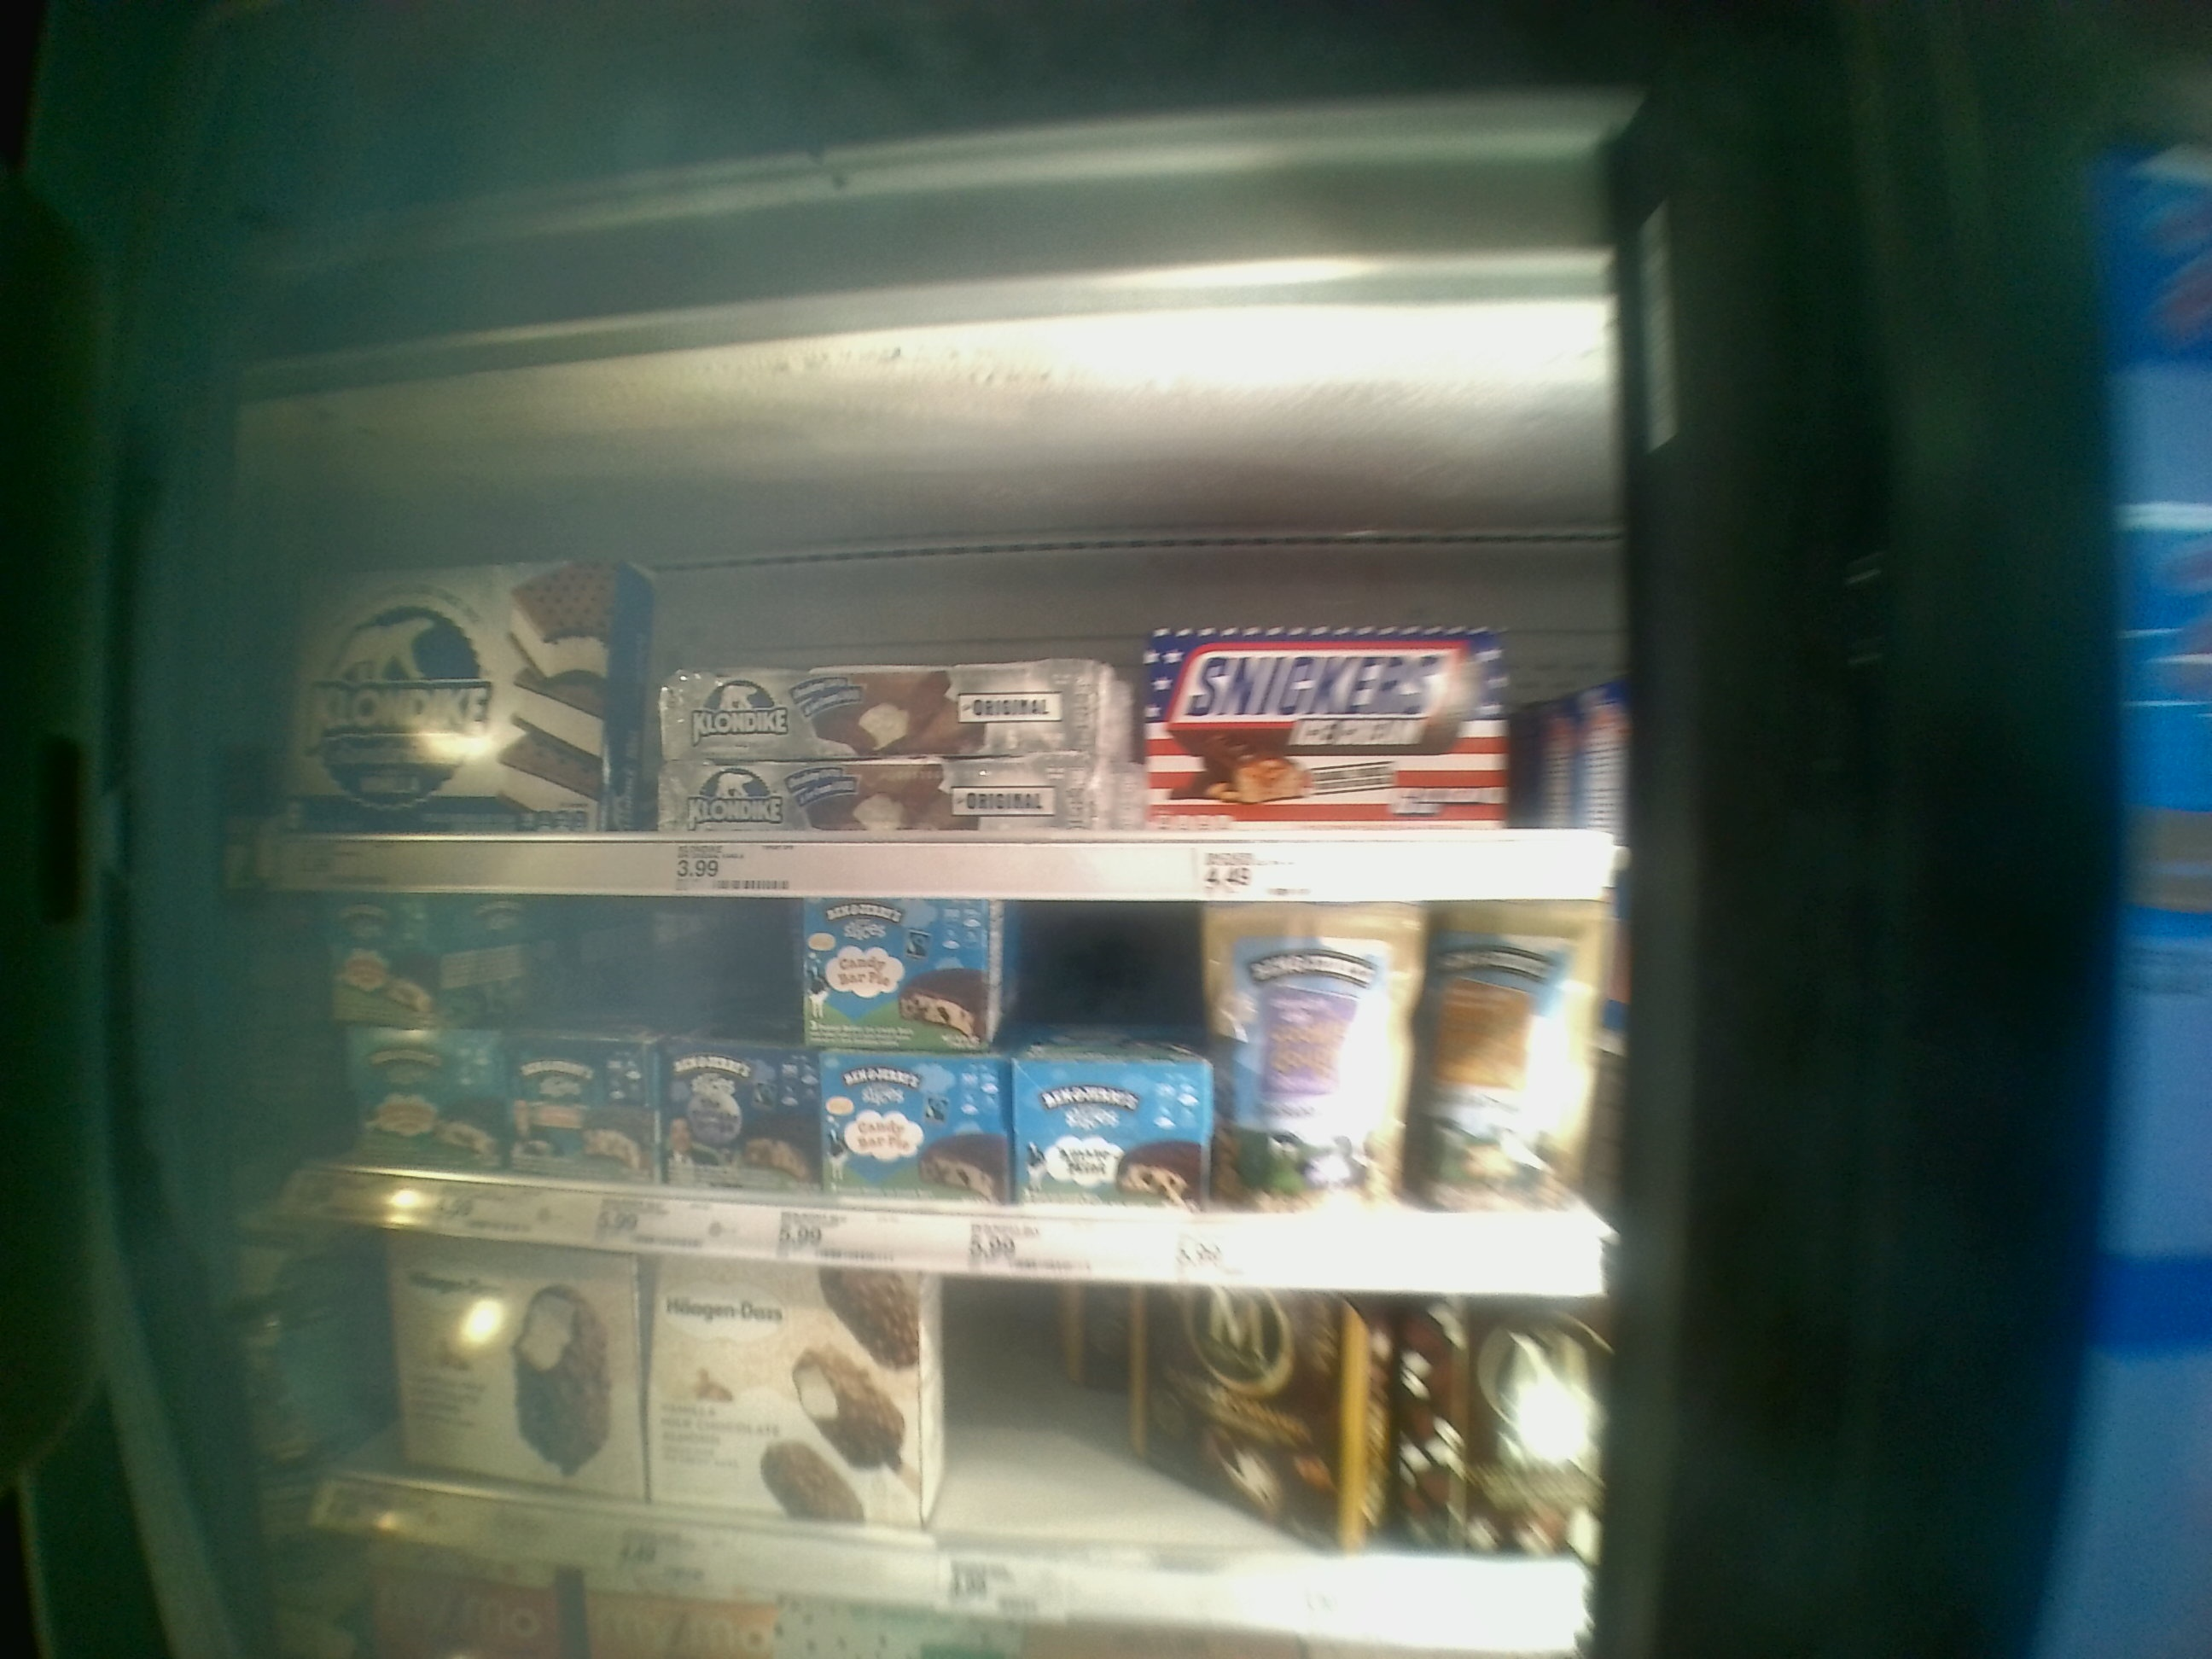shelf: (249, 894, 1622, 1297)
